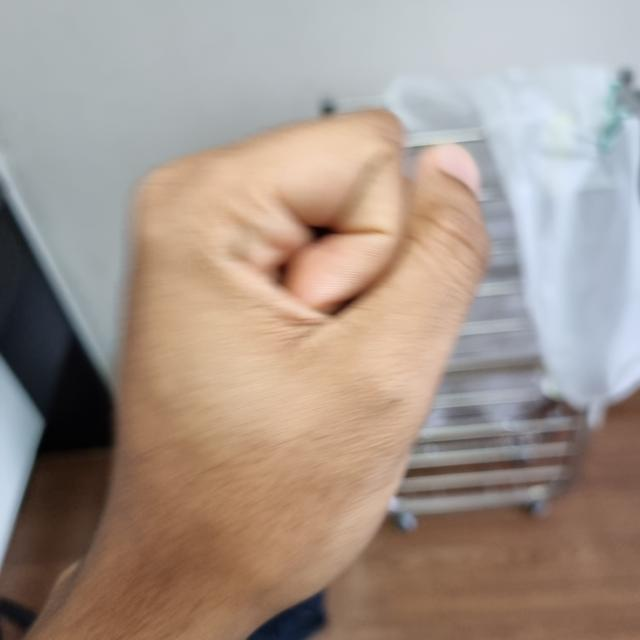Rock: (104, 113, 487, 611)
